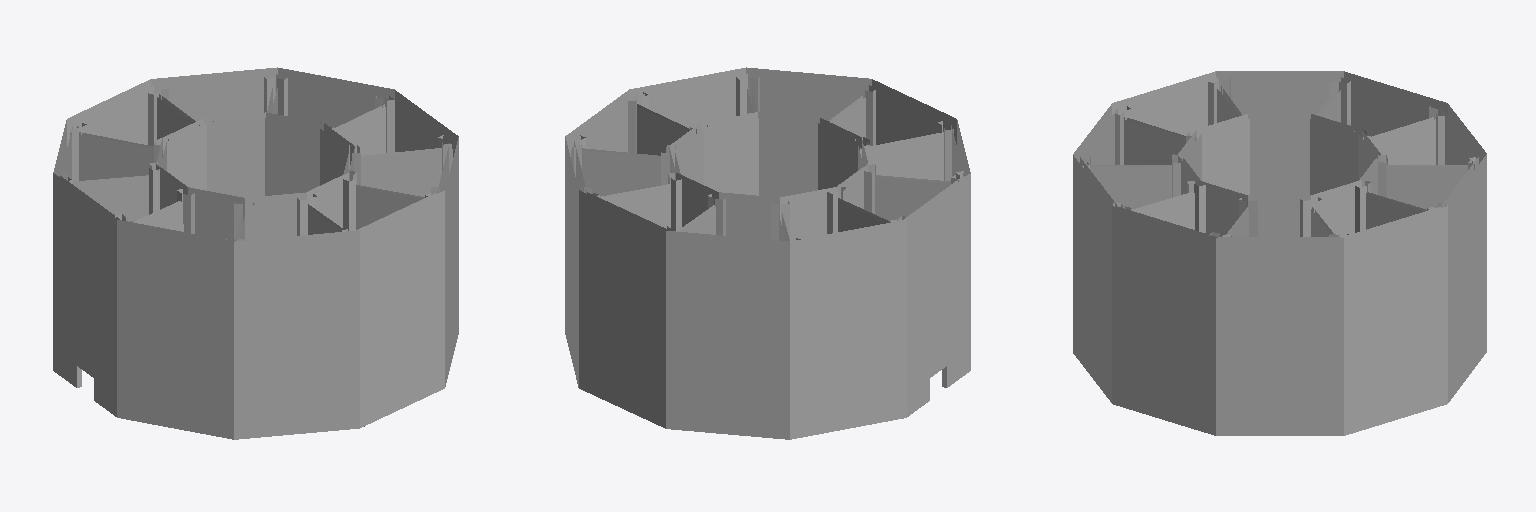
File: Demo_FieldWallCol.obj
3 views of the same model, side by side, from view 1: azimuth 30°, elevation 25°; view 2: azimuth 150°, elevation 25°; view 3: azimuth 270°, elevation 25° (orthographic).
Visible parts, largest first — view 1: WallCol, WallCol_2, PillarCol; view 2: WallCol, WallCol_2, PillarCol; view 3: WallCol, WallCol_2, PillarCol.
Part boxes in pixels (x1,y1,x2,y2): WallCol: (53,67,458,439); WallCol_2: (70,88,452,240); PillarCol: (60,77,451,426); WallCol: (565,67,970,439); WallCol_2: (571,89,950,240); PillarCol: (574,77,963,240); WallCol: (1073,71,1486,435); WallCol_2: (1090,86,1467,236); PillarCol: (1082,78,1475,236).
Size of the model in its own units: 752 by 427 by 791.